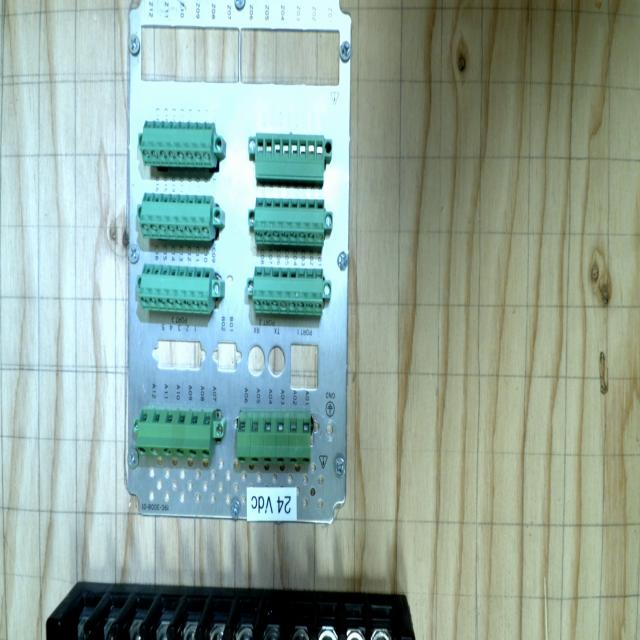Terminal_1: (136, 408, 213, 459), (237, 416, 311, 464)
Terminal_2: (138, 264, 213, 313), (252, 266, 324, 315), (253, 197, 325, 246), (140, 121, 215, 167), (139, 193, 212, 239)
